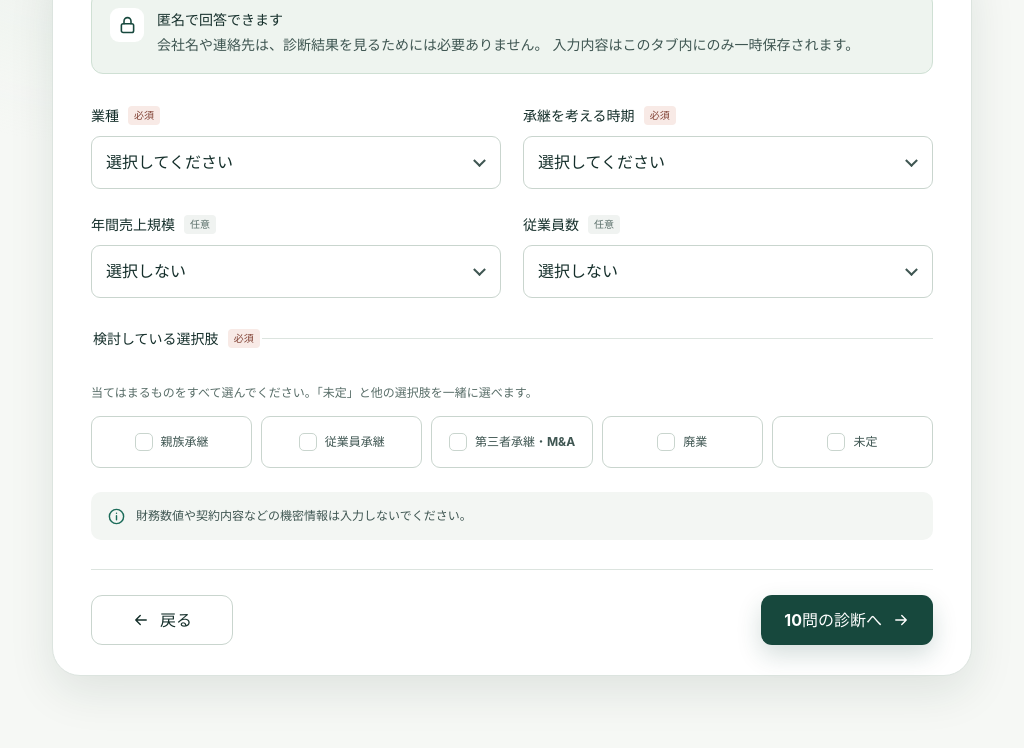
診断UIの受け入れ条件 › 基本情報の必須項目が未選択の場合は質問へ進まない
(page scrolled)
What coordinates should you click on to do the following:
click the button "10問の診断へ"
I would click on:
 (847, 620)
Its box is [761, 596, 933, 646].
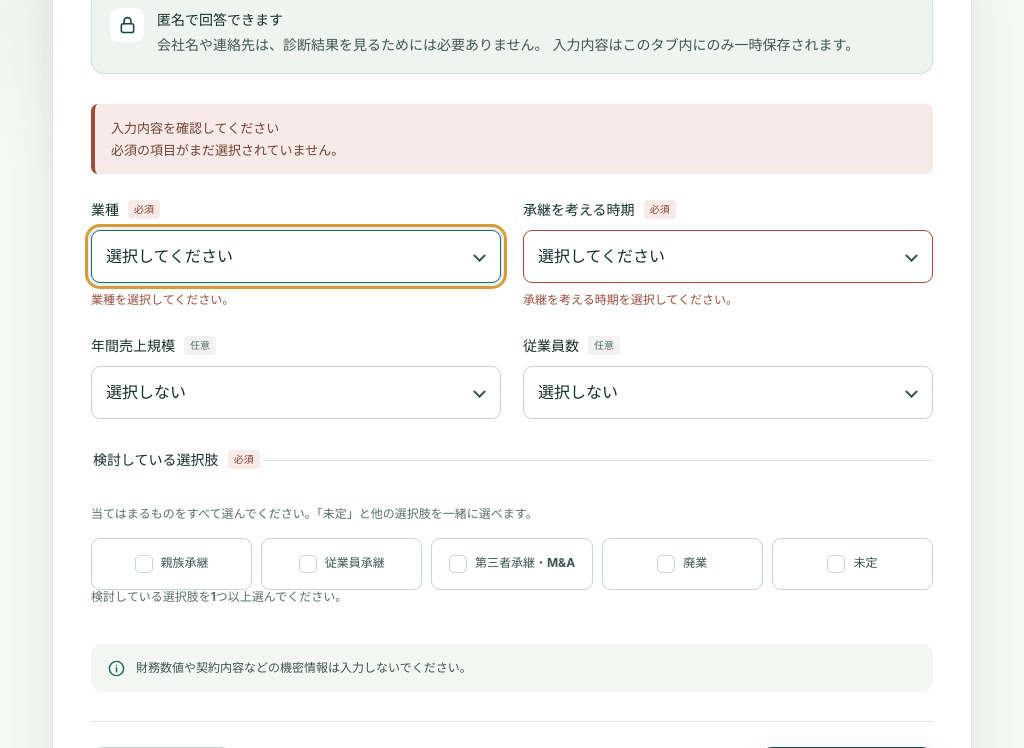
Now the message shows "必須の項目がまだ選択されていません", box [111, 142, 344, 158]
Now the text "業種を選択してください。" is shown, box [91, 292, 234, 307]
Now the text "承継を考える時期を選択してください。" is shown, box [523, 292, 738, 307]
